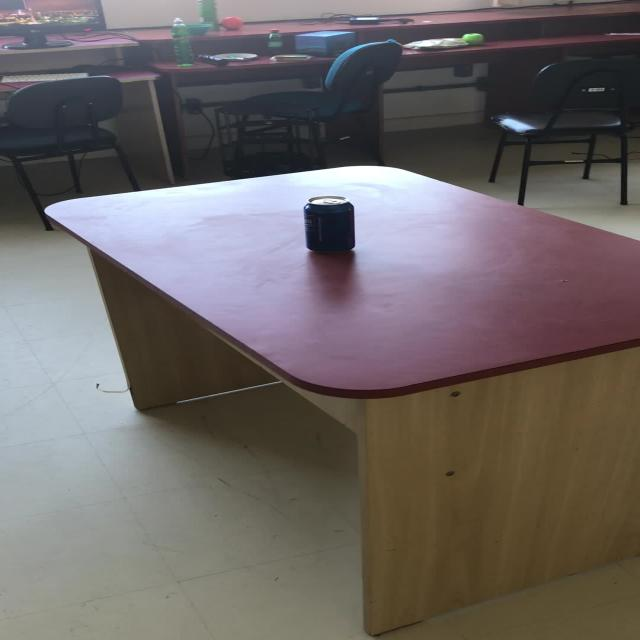tonic: (302, 195, 355, 252), (170, 17, 193, 66), (266, 28, 282, 55)
